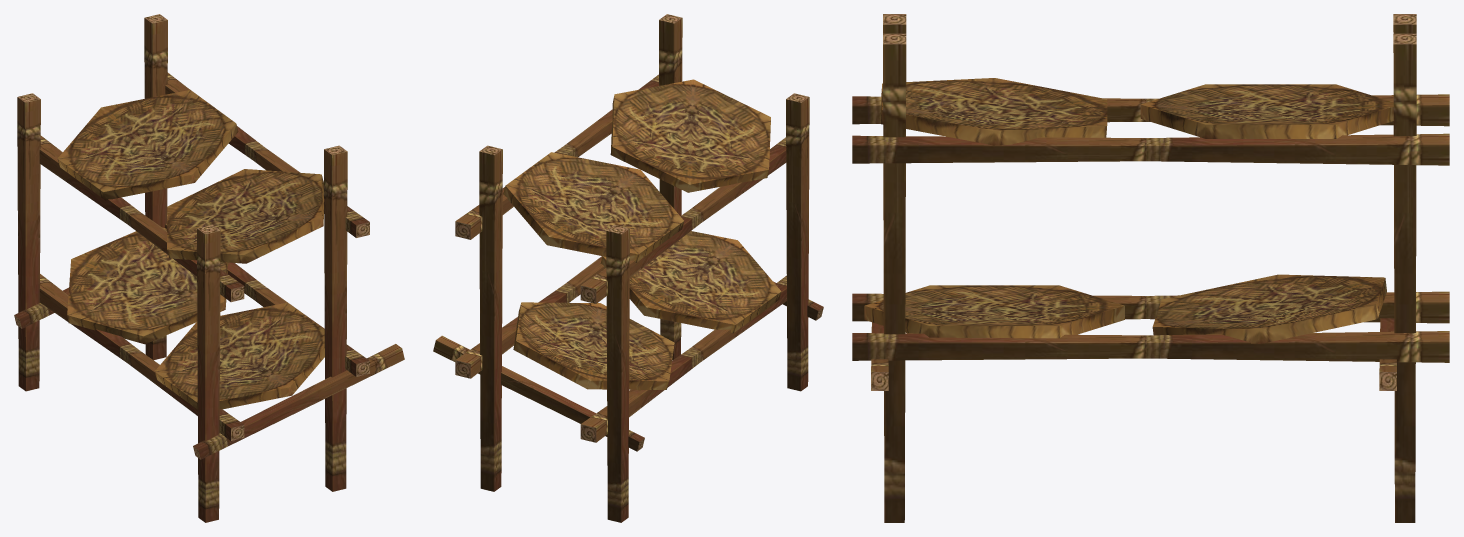
The model's file is szc_object_tanwei10a.FBX.
3 renders of one model, left to right at view 1: azimuth 30°, elevation 25°; view 2: azimuth 150°, elevation 25°; view 3: azimuth 270°, elevation 25°, orthographic. The views are drawn at different scales.
Visible parts, largest first — view 1: szc_object_tanwei10a; view 2: szc_object_tanwei10a; view 3: szc_object_tanwei10a.
Boxes of the visible parts, bbox=[...] form: szc_object_tanwei10a: bbox=[14, 14, 404, 522]; szc_object_tanwei10a: bbox=[433, 14, 823, 522]; szc_object_tanwei10a: bbox=[852, 14, 1449, 522].
Bounding box in the file's own units: 205 × 321 × 363.
